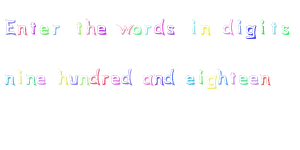E: (2, 13, 17, 37)
a: (140, 70, 154, 87)
d: (120, 64, 135, 88), (164, 65, 179, 87), (221, 15, 235, 38), (89, 65, 101, 89), (153, 16, 166, 38)
e: (37, 19, 51, 38), (183, 70, 196, 88), (96, 21, 109, 38), (36, 70, 49, 85), (249, 71, 259, 90), (110, 71, 121, 87), (238, 71, 248, 88)
g: (244, 22, 259, 42), (205, 74, 217, 89)
h: (216, 67, 230, 87), (84, 16, 96, 37), (56, 66, 68, 85)
i: (195, 66, 207, 88), (257, 15, 268, 36), (14, 66, 25, 87), (189, 16, 198, 37), (236, 19, 244, 37)
n: (2, 68, 16, 88), (199, 22, 213, 39), (260, 70, 273, 87), (25, 69, 36, 88), (16, 21, 29, 37), (153, 70, 165, 87), (79, 71, 90, 88)
o: (132, 21, 143, 39)
r: (51, 18, 61, 37), (143, 20, 153, 38), (101, 71, 111, 89)
s: (279, 21, 292, 39), (165, 23, 179, 38)
t: (227, 64, 238, 87), (28, 15, 37, 38), (72, 17, 82, 37), (269, 19, 279, 36)
u: (68, 71, 80, 86)
w: (117, 21, 132, 37)
